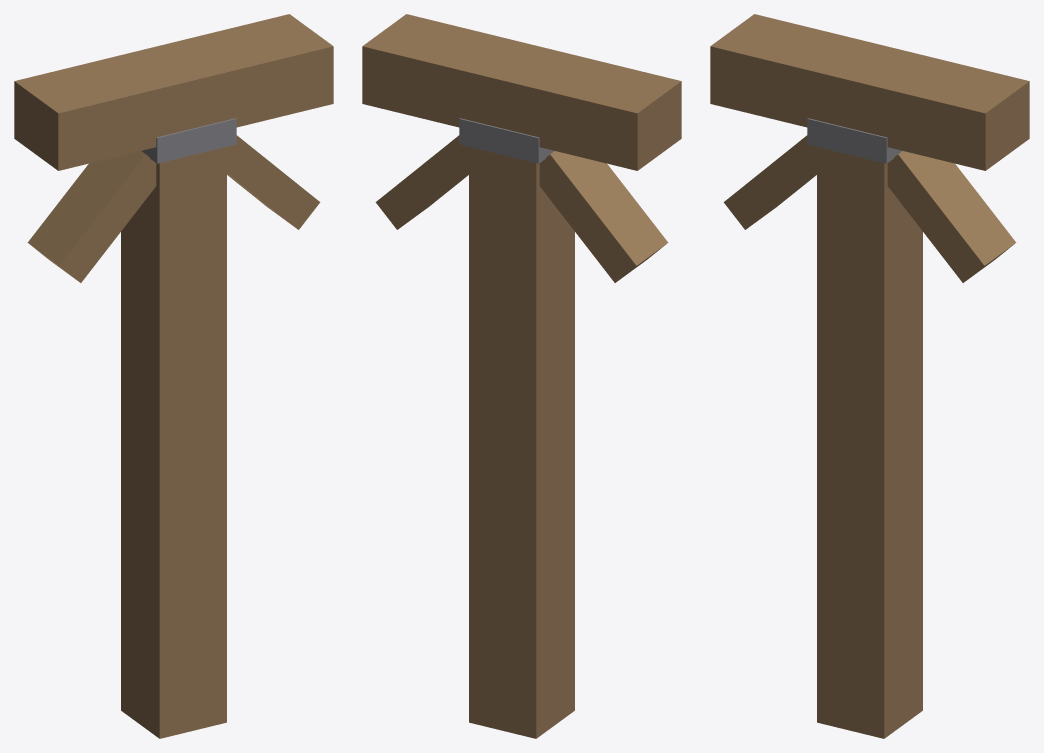
Rendered from support_beam.glb.
3 views of the same model, side by side, from view 1: azimuth 30°, elevation 25°; view 2: azimuth 150°, elevation 25°; view 3: azimuth 330°, elevation 25° (orthographic).
Visible parts, largest first — view 1: SupportPost, TopCrossbeam, Cube, Cube.001, Cube.002; view 2: SupportPost, TopCrossbeam, Cube, Cube.001, Cube.002; view 3: SupportPost, TopCrossbeam, Cube.001, Cube, Cube.002.
Part boxes in pixels (box(x1,y1,x2,y2)): SupportPost: box(121, 147, 226, 738); TopCrossbeam: box(14, 14, 333, 170); Cube: box(27, 151, 156, 282); Cube.001: box(227, 135, 320, 229); Cube.002: box(141, 118, 236, 163); SupportPost: box(469, 147, 574, 738); TopCrossbeam: box(362, 14, 681, 170); Cube: box(539, 151, 668, 282); Cube.001: box(375, 135, 468, 229); Cube.002: box(459, 118, 554, 163); SupportPost: box(817, 147, 922, 738); TopCrossbeam: box(710, 14, 1029, 170); Cube.001: box(887, 151, 1016, 282); Cube: box(723, 135, 816, 229); Cube.002: box(807, 118, 902, 163).
Bounding box in the file's own units: 0.9 × 2.04 × 0.26.
